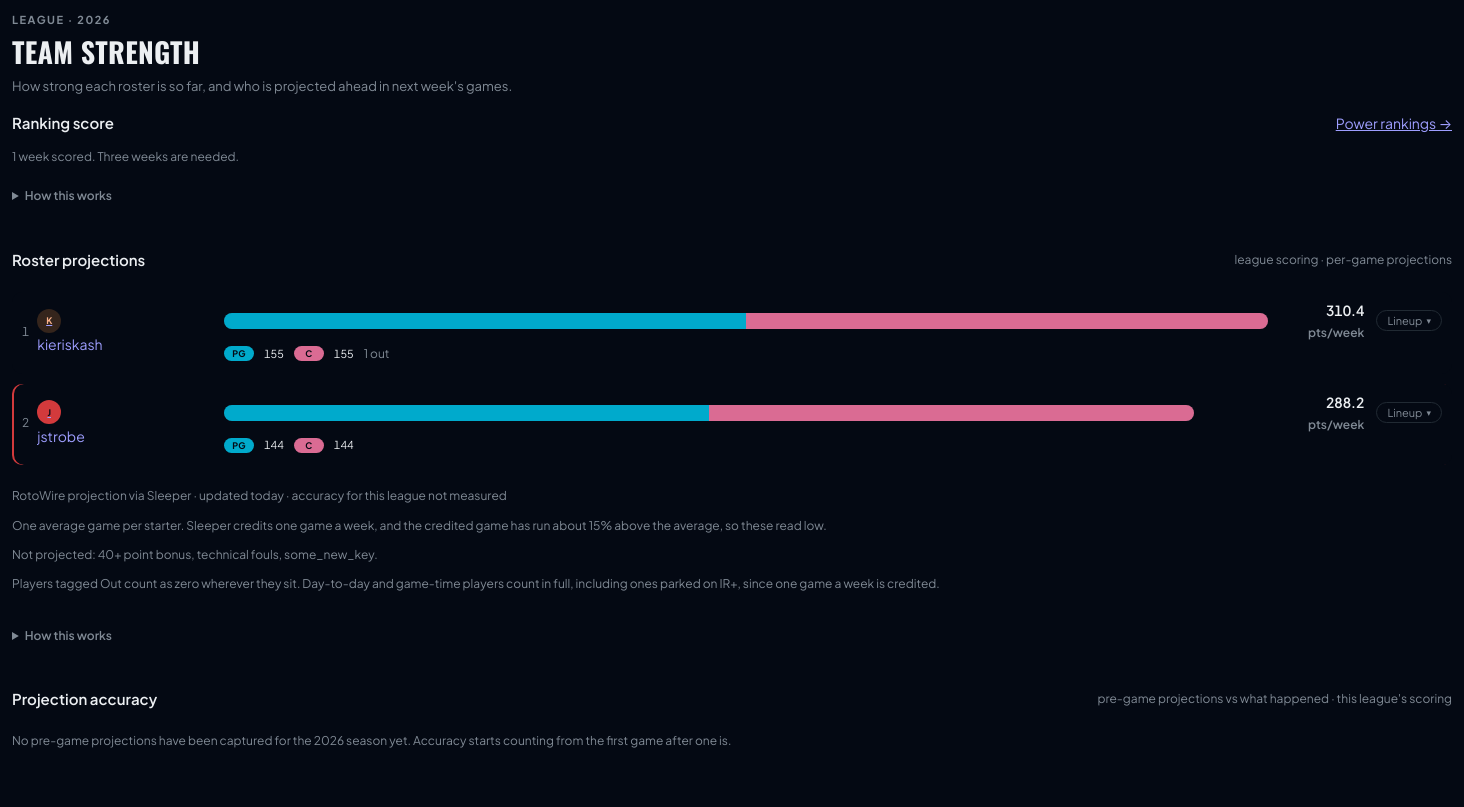
it: League analysis, basketball per-week projection (spec 030) › counts Out players as left out, lists them on the bench at zero, and flags an IR+ starter
Expected: the text "1 out" is shown, left=364, top=345, right=390, bottom=362
Click the 1st button "Lineup ▾" at (1409, 321), box left=1376, top=310, right=1442, bottom=331
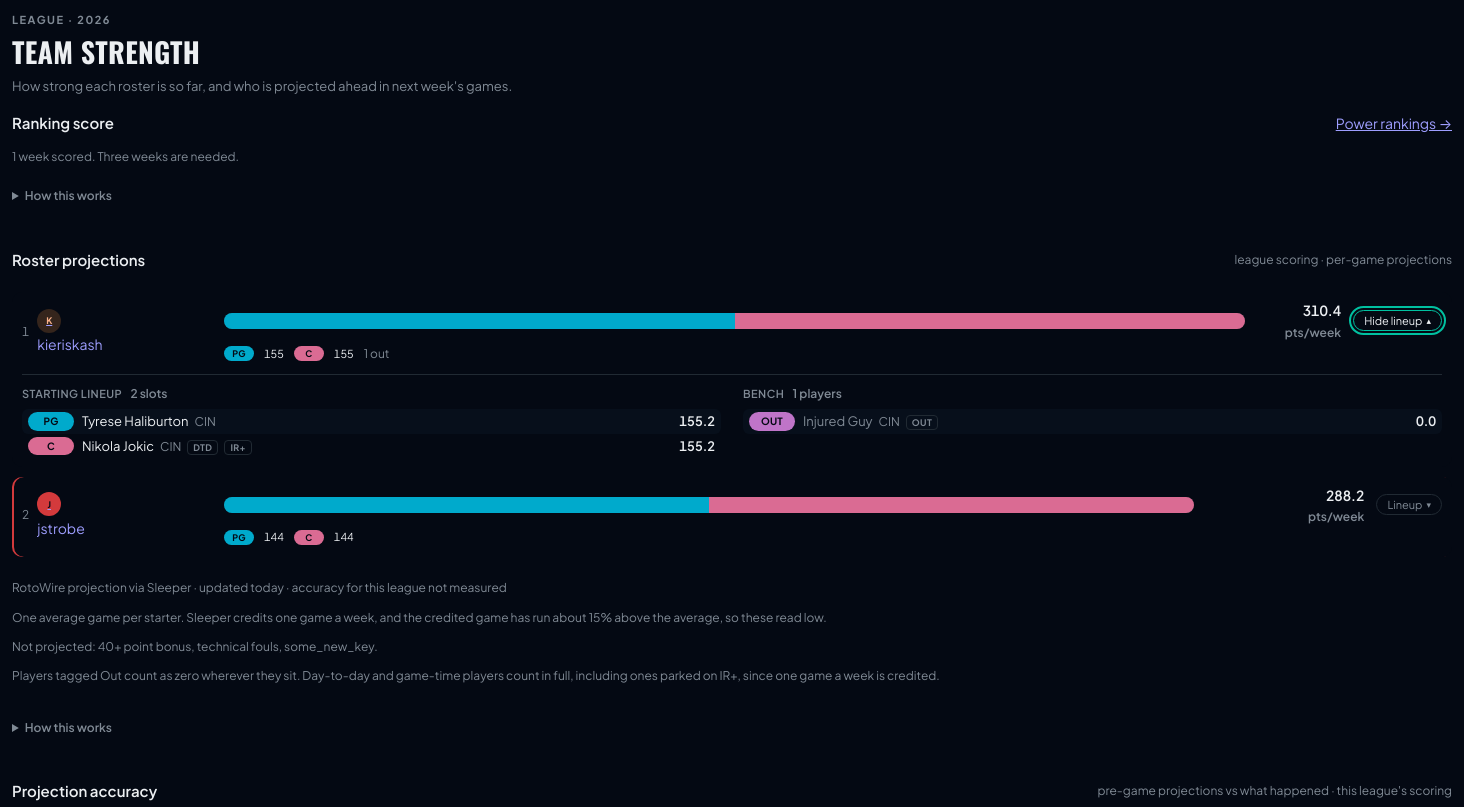
Expected: the text "Injured Guy" is shown, left=803, top=413, right=873, bottom=429
Expected: the text "OUT" is shown, left=749, top=412, right=795, bottom=430
Expected: the text "IR+" is shown, left=224, top=440, right=252, bottom=455
